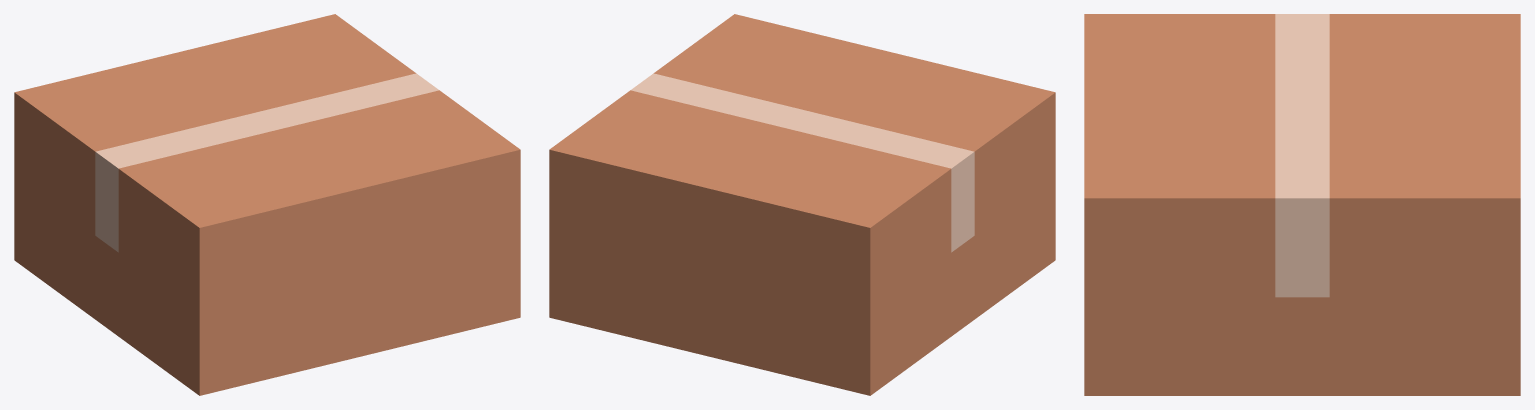
File: BoxLarge-transformed.glb
3 views of the same model, side by side, from view 1: azimuth 30°, elevation 25°; view 2: azimuth 150°, elevation 25°; view 3: azimuth 270°, elevation 25° (orthographic). The views are drawn at different scales.
Parts seen in each view (by area): view 1: box-large; view 2: box-large; view 3: box-large.
Boxes of the visible parts, left/top/right/bottom form: box-large: left=14, top=14, right=520, bottom=395; box-large: left=549, top=14, right=1055, bottom=395; box-large: left=1084, top=14, right=1520, bottom=395.
Bounding box in the file's own units: 1 × 0.5 × 1.
